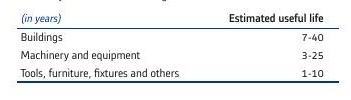table: (0, 0, 351, 100)
